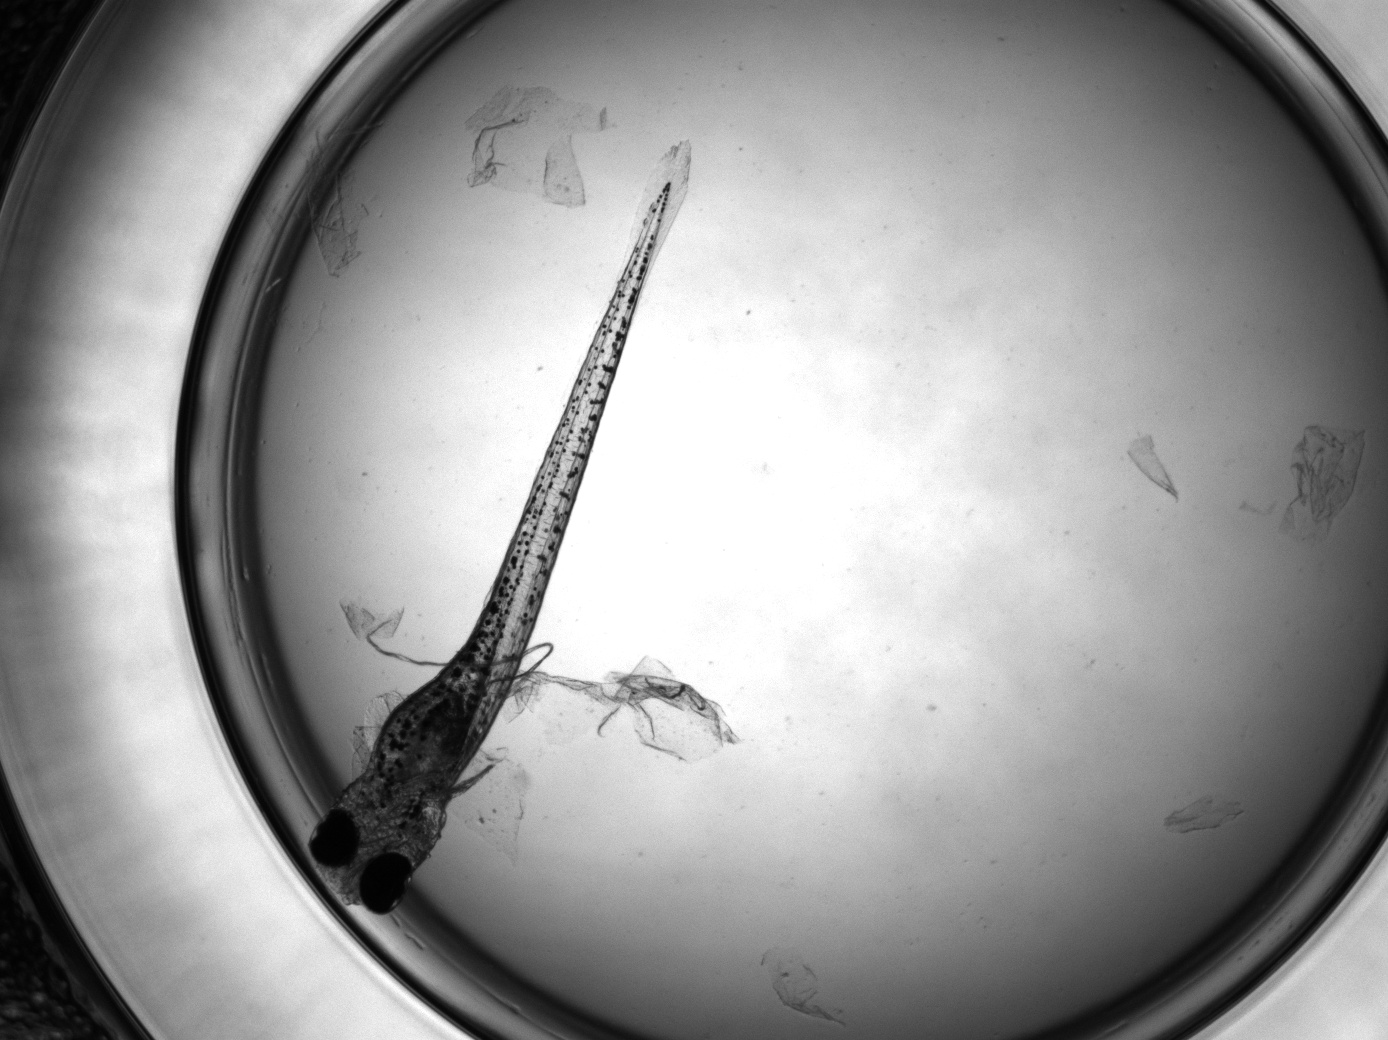debris: (506, 655, 746, 767), (458, 79, 610, 206), (1278, 422, 1371, 540), (757, 944, 849, 1030), (310, 166, 381, 277), (1166, 793, 1246, 835)
embryo: (306, 177, 672, 915)
eye: (356, 853, 413, 915), (307, 804, 359, 867)
yolksac: (369, 661, 493, 793)
